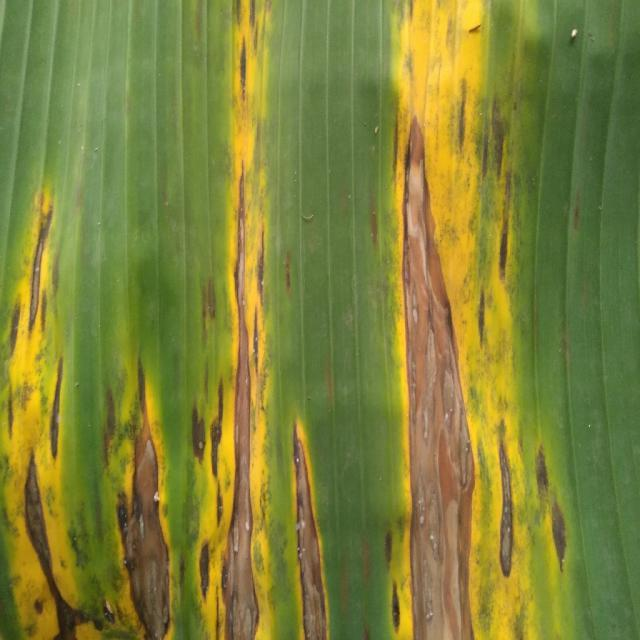Early_rust: (5, 0, 591, 640)
